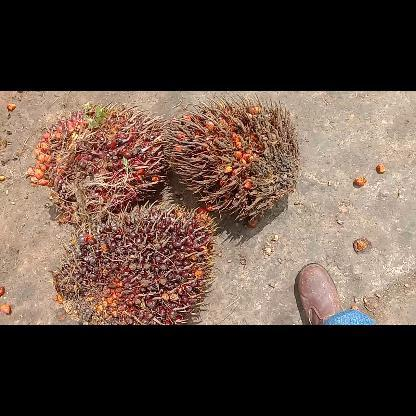Kurang masak: (54, 204, 214, 324)
TBS masak: (27, 104, 162, 216)
Terlalu masak: (163, 100, 299, 220)
